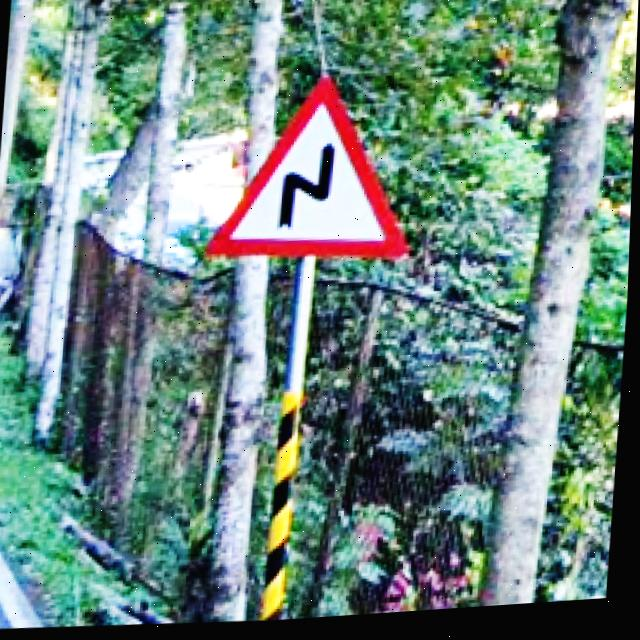doublebendright: (208, 82, 411, 267)
